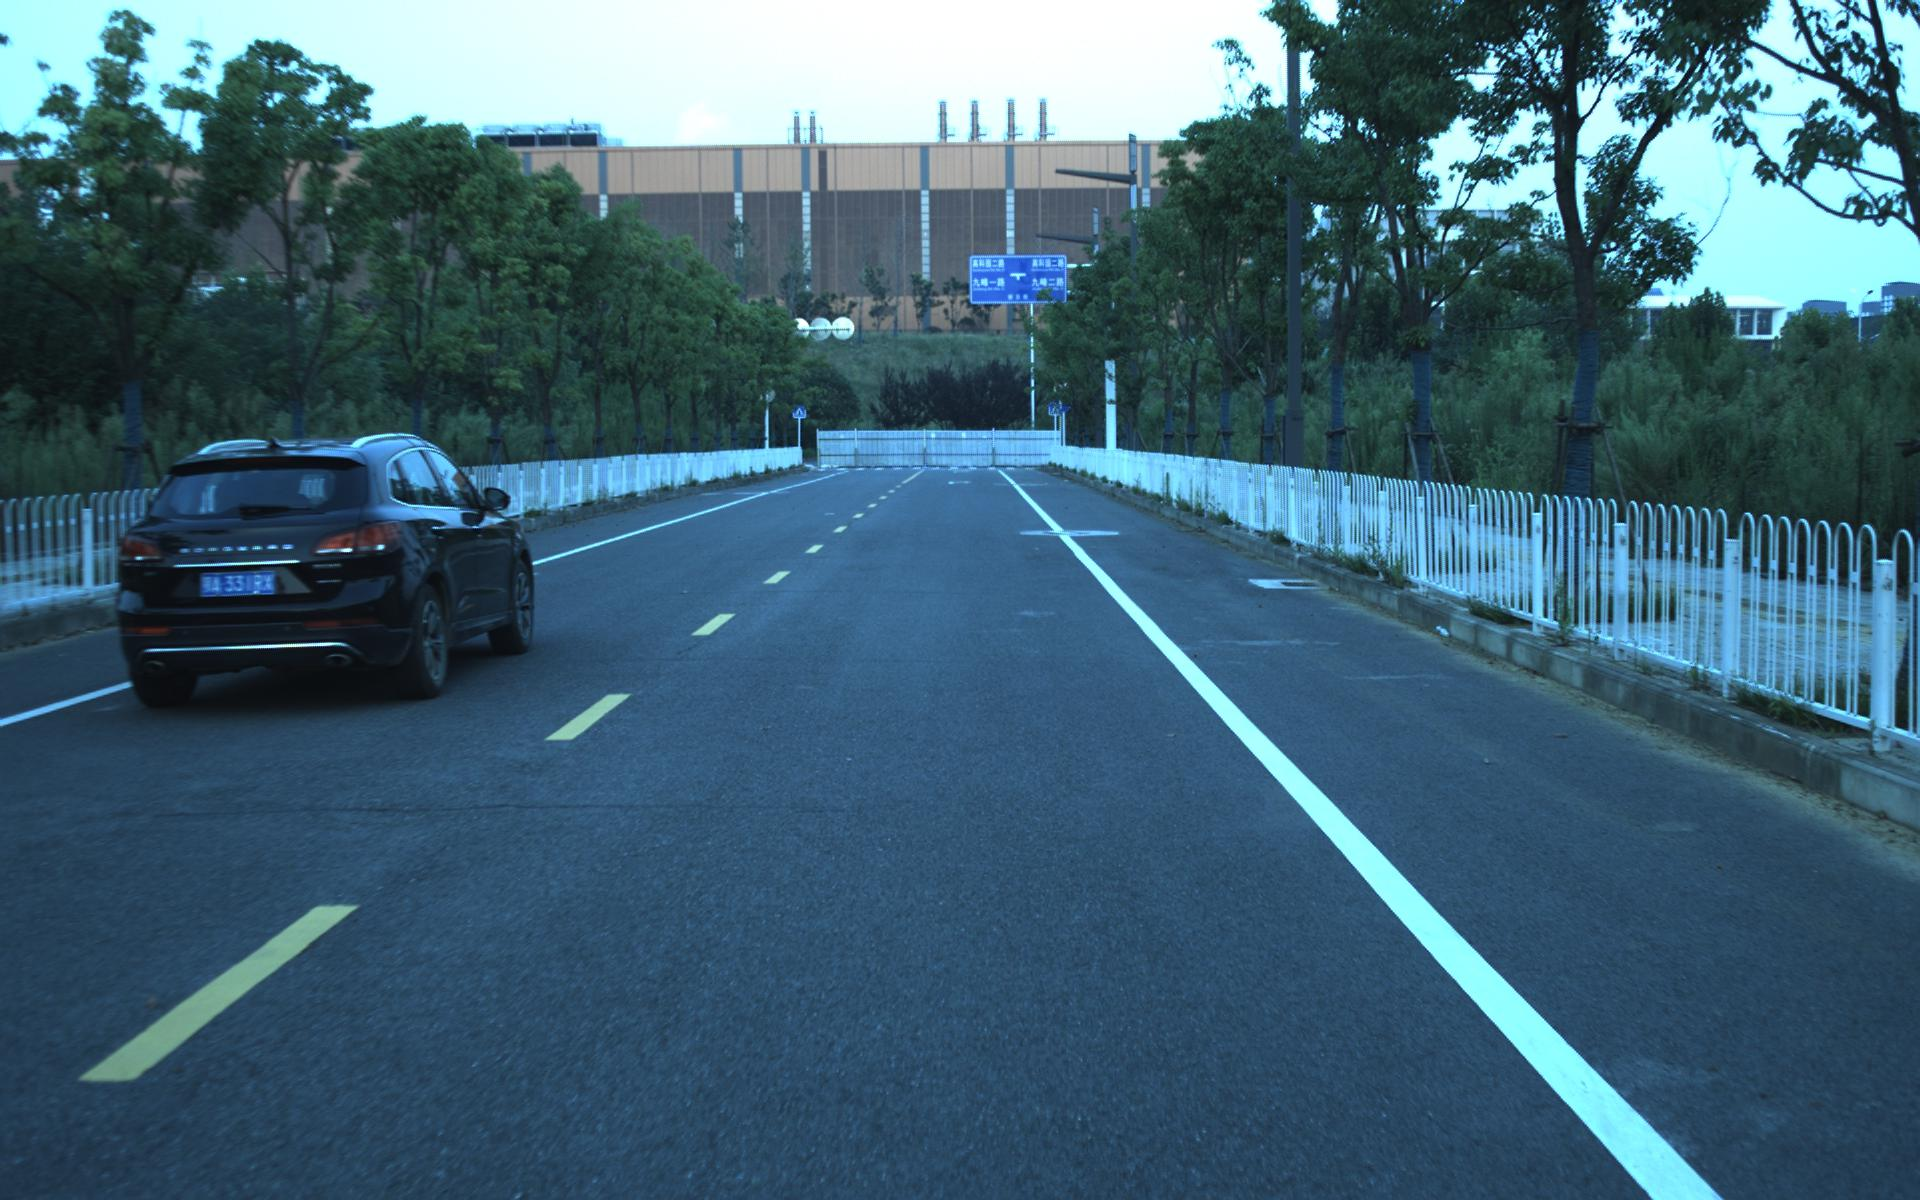Car: (95, 423, 542, 713)
